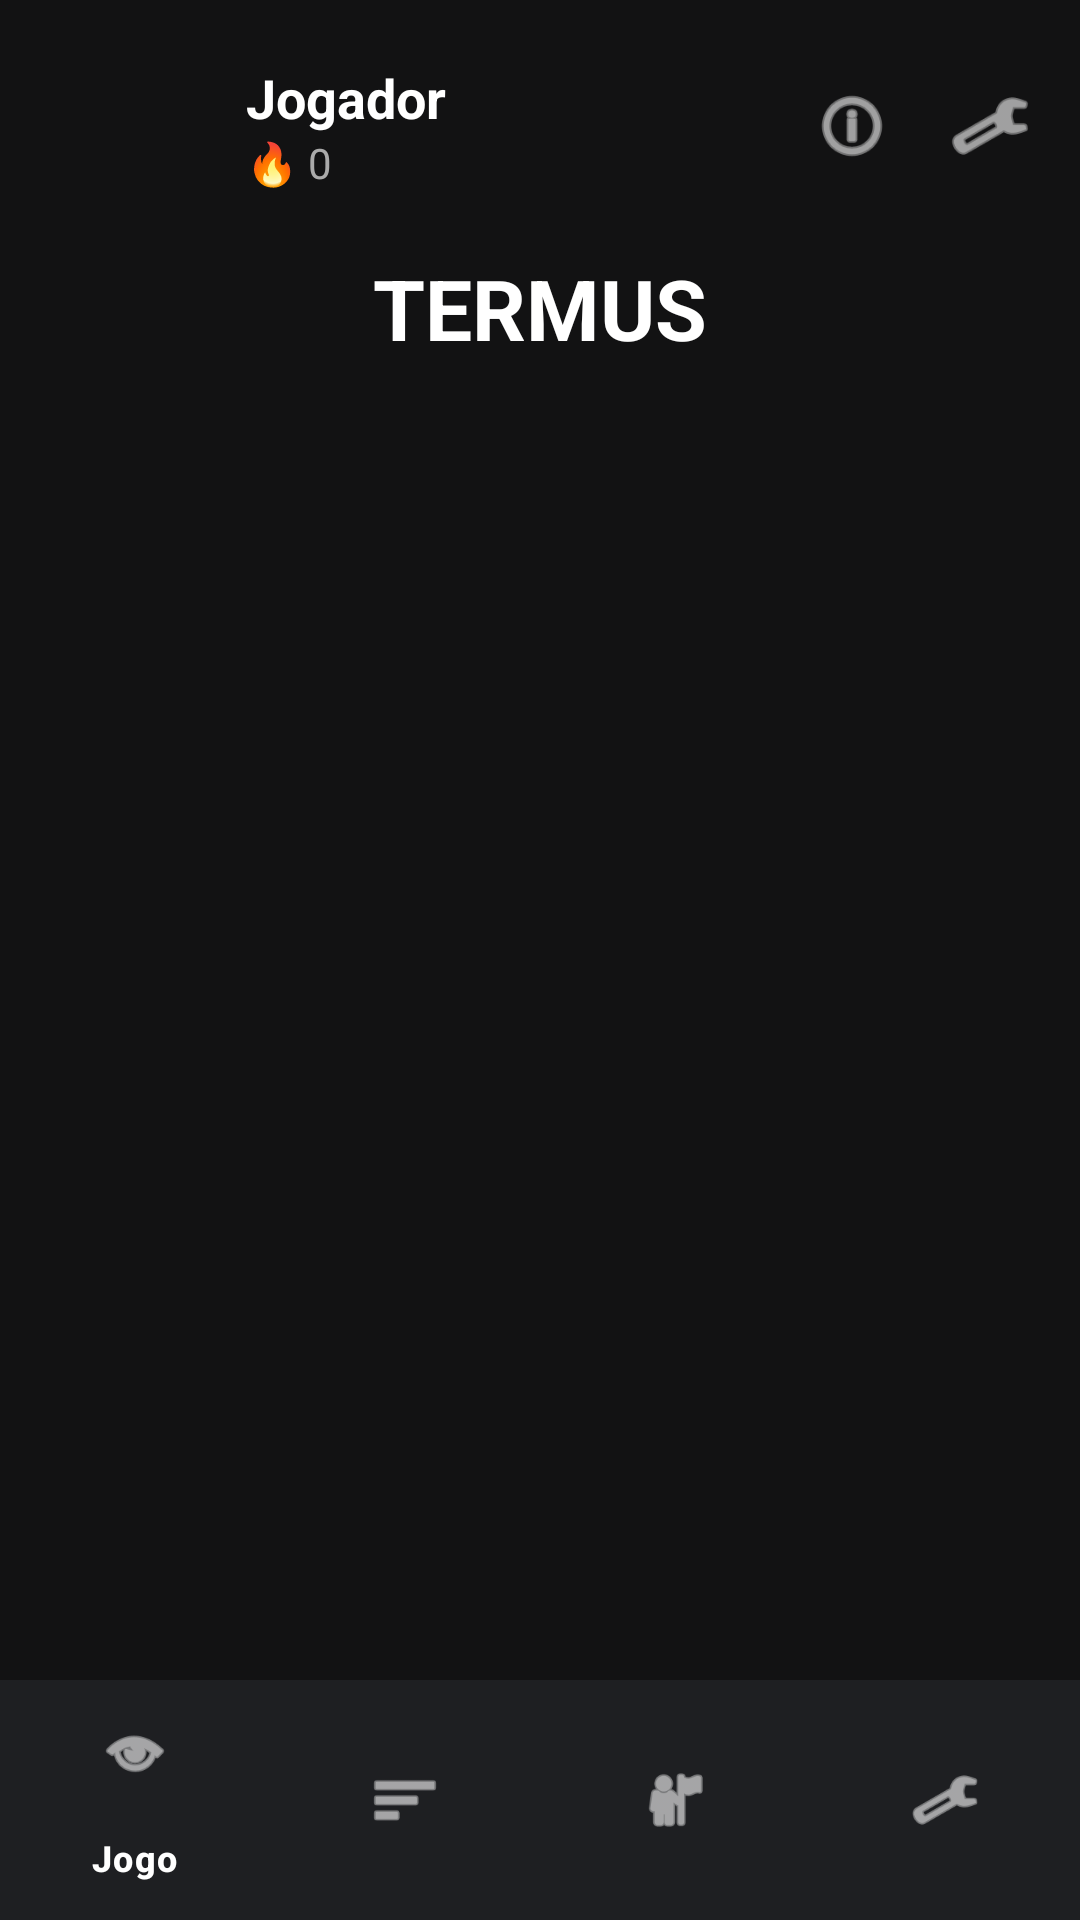

Named icons in this screenshot (1080×1920) and their bounding boxes, BBox(x1, y1, x2, y2):
info details: BBox(822, 96, 882, 156)
preferences: BBox(952, 97, 1028, 155)
